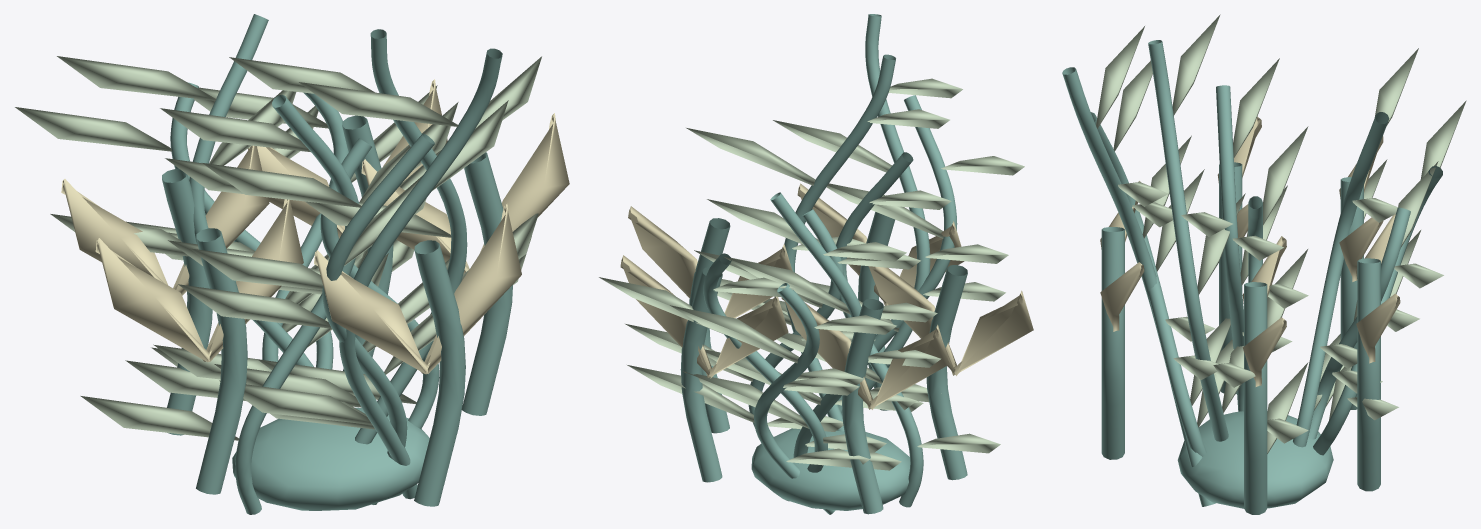
Rendered from bio_aquatic_frond_07_far.glb.
The picture shows the model from 3 angles, left to right: view 1: azimuth 30°, elevation 25°; view 2: azimuth 150°, elevation 25°; view 3: azimuth 270°, elevation 25°; orthographic projection. The views are drawn at different scales.
Visible parts, largest first — view 1: Holdfast, Ruffled aquatic blade.010, Secondary fan lobe.004, Ruffled aquatic blade.035, Secondary fan lobe.008, Ruffled aquatic blade.020, Flexible stipe.002, Ruffled aquatic blade.025, Branching support.002, Ruffled aquatic blade.005, Secondary fan lobe.002, Branching support.004 (+15 smaller); view 2: Holdfast, Ruffled aquatic blade.030, Ruffled aquatic blade.005, Ruffled aquatic blade.015, Ruffled aquatic blade.020, Secondary fan lobe.008, Ruffled aquatic blade.010, Secondary fan lobe.002, Branching support.001, Branching support.003, Secondary fan lobe.006, Ruffled aquatic blade.025 (+15 smaller); view 3: Holdfast, Flexible stipe.005, Flexible stipe.001, Branching support.002, Branching support, Branching support.003, Ruffled aquatic blade, Ruffled aquatic blade.025, Ruffled aquatic blade.010, Flexible stipe.002, Ruffled aquatic blade.035, Flexible stipe.004 (+15 smaller).
Boxes of the visible parts, bbox=[...] form: Holdfast: bbox=[232, 407, 429, 510]; Ruffled aquatic blade.010: bbox=[189, 82, 508, 424]; Secondary fan lobe.004: bbox=[314, 204, 521, 374]; Ruffled aquatic blade.035: bbox=[178, 163, 436, 429]; Secondary fan lobe.008: bbox=[95, 199, 303, 362]; Ruffled aquatic blade.020: bbox=[80, 102, 458, 440]; Flexible stipe.002: bbox=[339, 48, 502, 499]; Ruffled aquatic blade.025: bbox=[214, 56, 541, 407]; Branching support.002: bbox=[414, 240, 465, 506]; Ruffled aquatic blade.005: bbox=[50, 56, 363, 379]; Secondary fan lobe.002: bbox=[61, 145, 269, 295]; Branching support.004: bbox=[196, 228, 247, 494]; Holdfast: bbox=[751, 428, 910, 510]; Ruffled aquatic blade.030: bbox=[627, 305, 896, 467]; Ruffled aquatic blade.005: bbox=[705, 242, 940, 452]; Ruffled aquatic blade.015: bbox=[599, 277, 901, 470]; Ruffled aquatic blade.020: bbox=[707, 190, 1000, 453]; Secondary fan lobe.008: bbox=[868, 266, 1033, 375]; Ruffled aquatic blade.010: bbox=[773, 78, 1008, 402]; Secondary fan lobe.002: bbox=[781, 297, 949, 409]; Branching support.001: bbox=[842, 299, 883, 514]; Branching support.003: bbox=[680, 267, 722, 482]; Secondary fan lobe.006: bbox=[620, 255, 788, 378]; Ruffled aquatic blade.025: bbox=[686, 109, 949, 410]; Holdfast: bbox=[1177, 411, 1333, 508]; Flexible stipe.005: bbox=[1148, 40, 1228, 441]; Flexible stipe.001: bbox=[1293, 112, 1389, 447]; Branching support.002: bbox=[1101, 227, 1124, 459]; Branching support: bbox=[1244, 282, 1267, 514]; Branching support.003: bbox=[1357, 258, 1380, 491]; Ruffled aquatic blade: bbox=[1263, 126, 1308, 453]; Ruffled aquatic blade.025: bbox=[1172, 14, 1255, 412]; Ruffled aquatic blade.010: bbox=[1096, 26, 1230, 405]; Flexible stipe.002: bbox=[1062, 67, 1215, 506]; Ruffled aquatic blade.035: bbox=[1113, 60, 1233, 427]; Flexible stipe.004: bbox=[1216, 85, 1243, 411].
Bounding box in the file's own units: 1.85 × 1.89 × 1.56.
